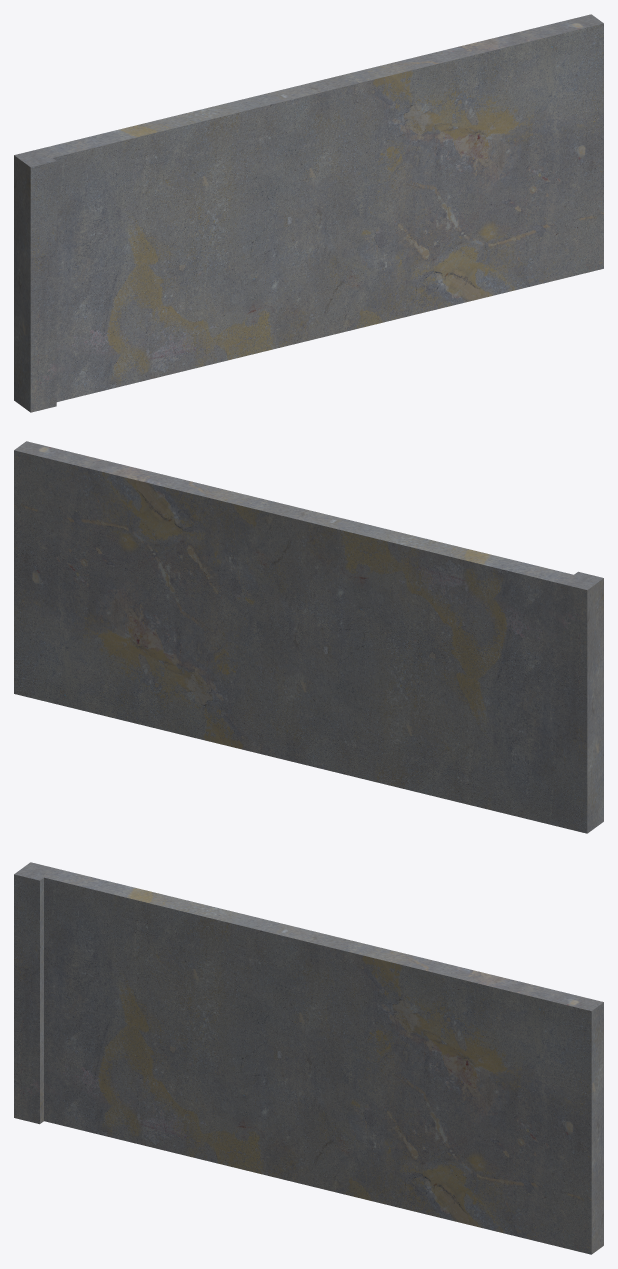
The model's file is Fence4.fbx.
3 renders of one model, top to bottom at view 1: azimuth 30°, elevation 25°; view 2: azimuth 150°, elevation 25°; view 3: azimuth 330°, elevation 25°, orthographic.
Visible parts, largest first — view 1: Fence4; view 2: Fence4; view 3: Fence4.
Boxes of the visible parts, box(x1,y1,x2,y2) form: Fence4: box(14, 14, 603, 412); Fence4: box(14, 441, 603, 833); Fence4: box(14, 862, 603, 1254).
Size of the model in its own units: 995 by 404 by 49.96.
1 material, 1 textured.
